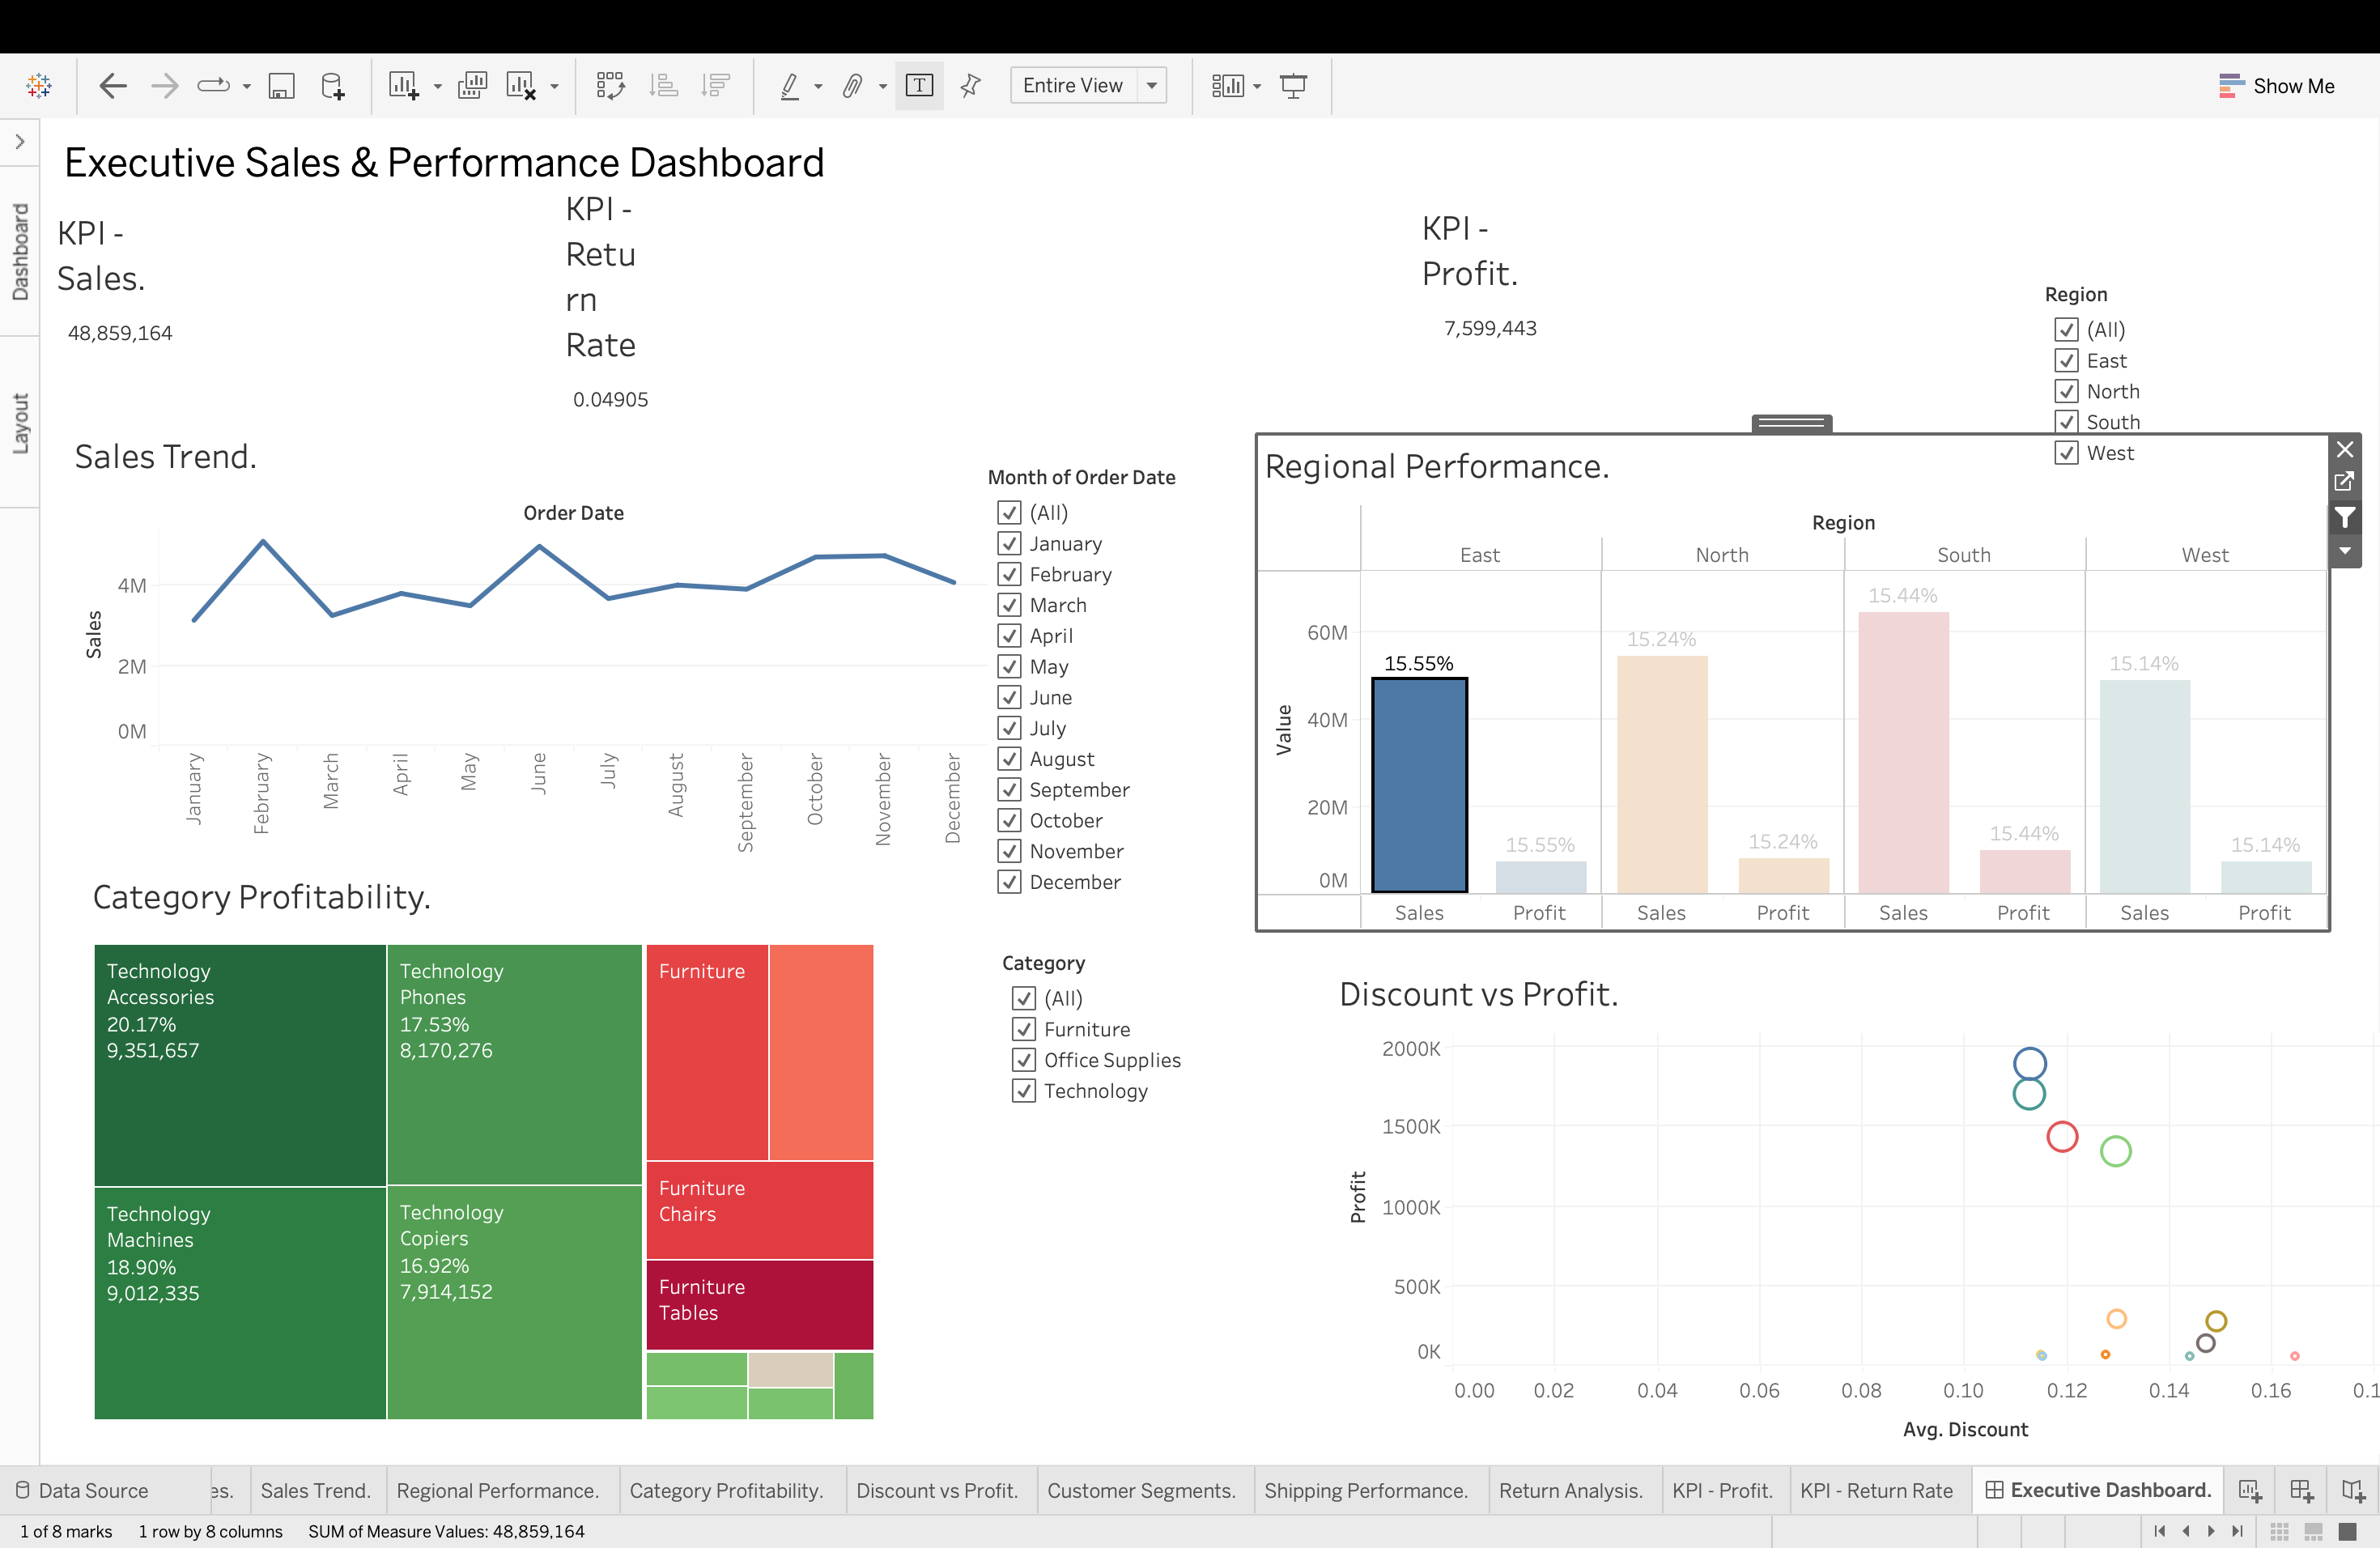

What the dashboard file says about the page in this screenshot:
{"tool":"tableau","page":{"name":"Executive Dashboard.","canvas":[1000,1000],"units":"permille","ordinal":0},"visuals":[{"type":"title","box":[6.4,9.6,987.3,46.9]},{"type":"worksheet","title":"KPI - Return Rate","mark":"Automatic","box":[221.5,44.5,350.4,252.7]},{"type":"worksheet","title":"KPI - Profit.","mark":"Automatic","box":[587.9,59,412.1,210.6]},{"type":"worksheet","title":"KPI - Sales.","mark":"Automatic","box":[4.3,62.6,218.3,176.9]},{"type":"filter","title":"Regional Performance.","param":"[federated.19sngwx1iiu1tr1bejkei0983i9s].[none:region:nk]","box":[857,120.3,127.1,143.2]},{"type":"worksheet","title":"Sales Trend.","mark":"Automatic","rows":["sales"],"cols":["order_date"],"box":[11.9,228.6,393.2,333.3]},{"type":"worksheet","title":"Regional Performance.","mark":"Automatic","cols":["region"],"box":[520.8,235.9,457.9,367]},{"type":"filter","title":"Sales Trend.","param":"[federated.19sngwx1iiu1tr1bejkei0983i9s].[mn:order_date:ok]","box":[405.1,256.3,127.1,326.1]},{"type":"worksheet","title":"Category Profitability.","mark":"Automatic","box":[19.2,556,604.9,418.8]},{"type":"filter","title":"Category Profitability.","param":"[federated.19sngwx1iiu1tr1bejkei0983i9s].[none:category:nk]","box":[411.4,617.3,127.1,120.3]}]}

Visuals, with their boxes on the dashboard's canvas, which has no fixed pixel size, in thousandths of its width and height (x1, y1, x2, y2). These are canvas units, not pixel positions in the 2380x1548 screenshot, which may show the page scaled, cropped or inside an application window:
title: [6,10,994,56]
"KPI - Return Rate" worksheet: [222,44,572,297]
"KPI - Profit." worksheet: [588,59,1000,270]
"KPI - Sales." worksheet: [4,63,223,240]
"Regional Performance." filter: [857,120,984,264]
"Sales Trend." worksheet: [12,229,405,562]
"Regional Performance." worksheet: [521,236,979,603]
"Sales Trend." filter: [405,256,532,582]
"Category Profitability." worksheet: [19,556,624,975]
"Category Profitability." filter: [411,617,538,738]
